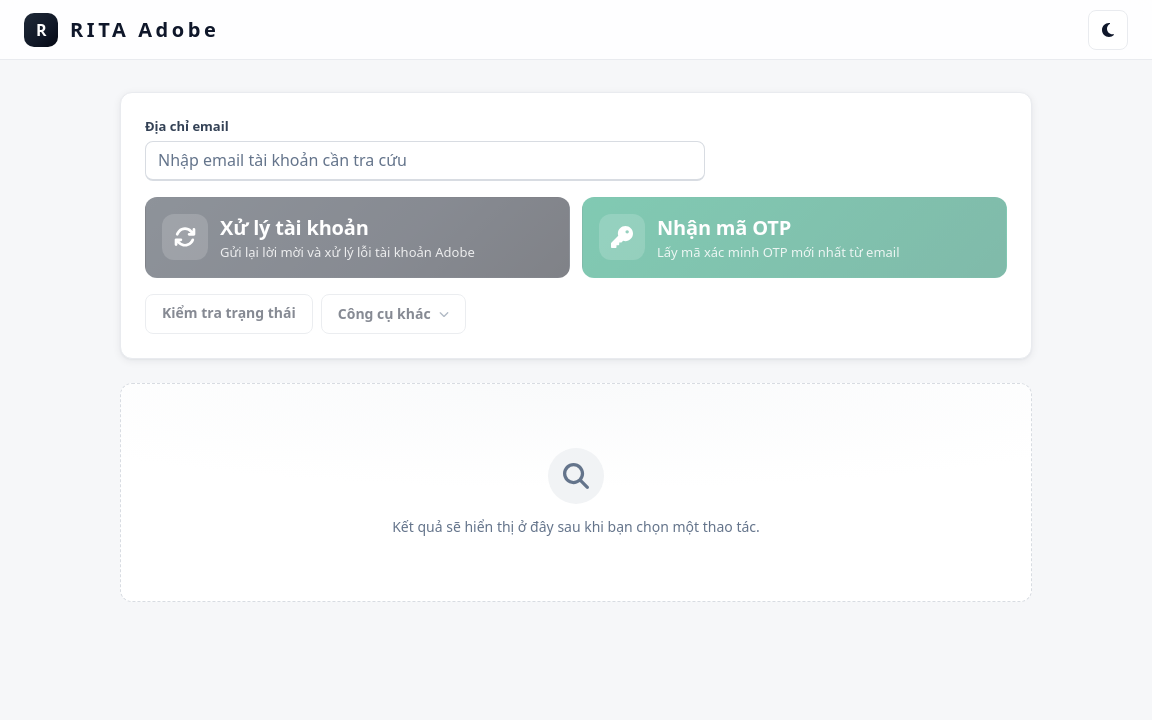
Test: DashboardPage - result routing (Req 12.3, 12.4) › renders the OTP value only after the OTP action is used
This screenshot has width=1152, height=720.
Type "user@example.com" into the field named "Email address" at (425, 160), box [145,140,705,180]
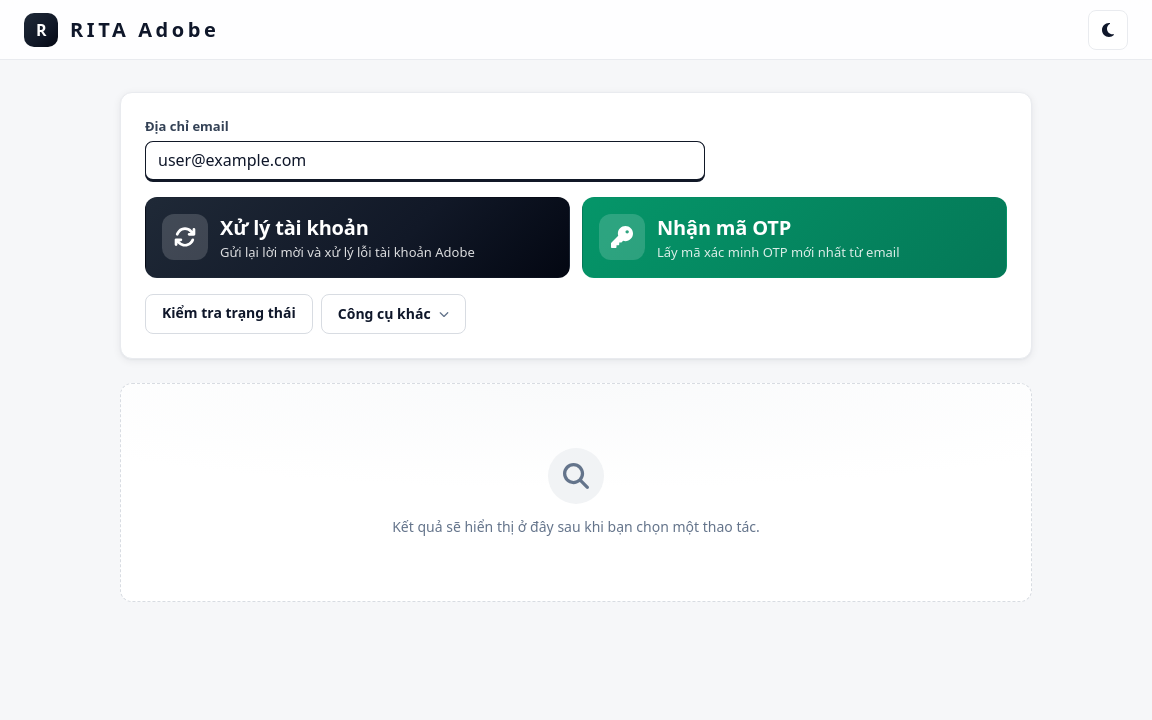
Expected: the button "Kiểm tra trạng thái" is enabled, [145,294,313,334]
Click the button "Nhận mã OTP Lấy mã xác minh OTP mới nhất từ email" at (622, 237), box [582,196,1007,278]
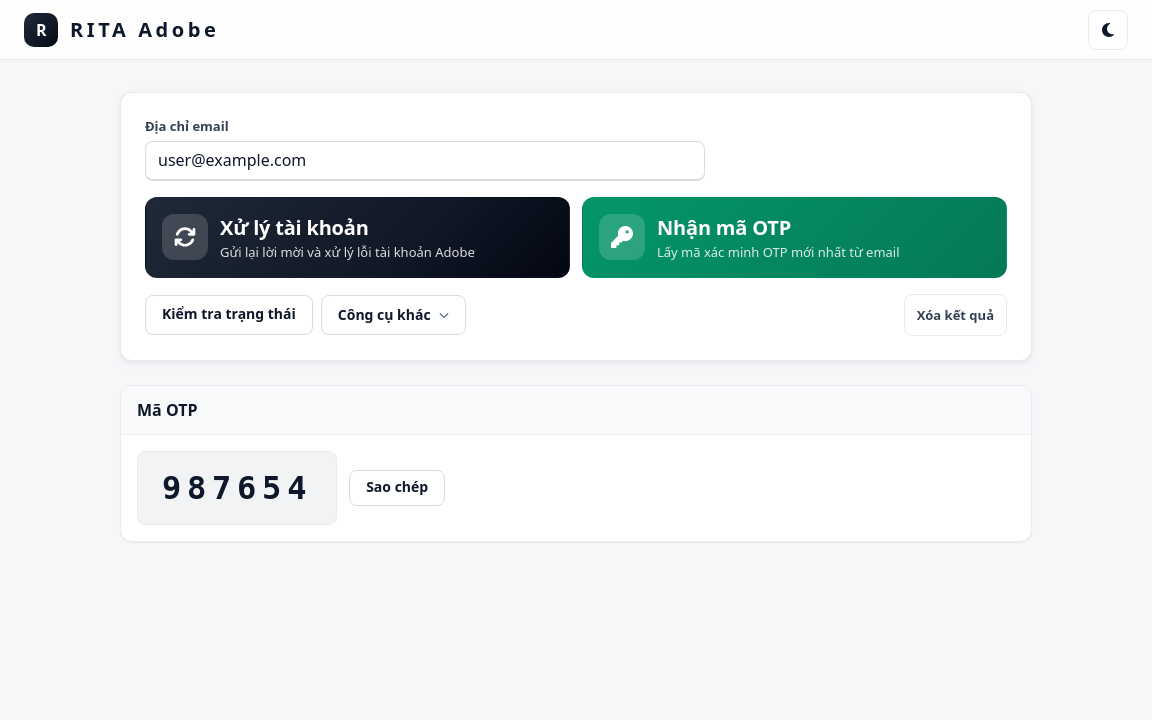
Expected: the text with test id "otp-value" reads "987654", [162,469,312,507]
